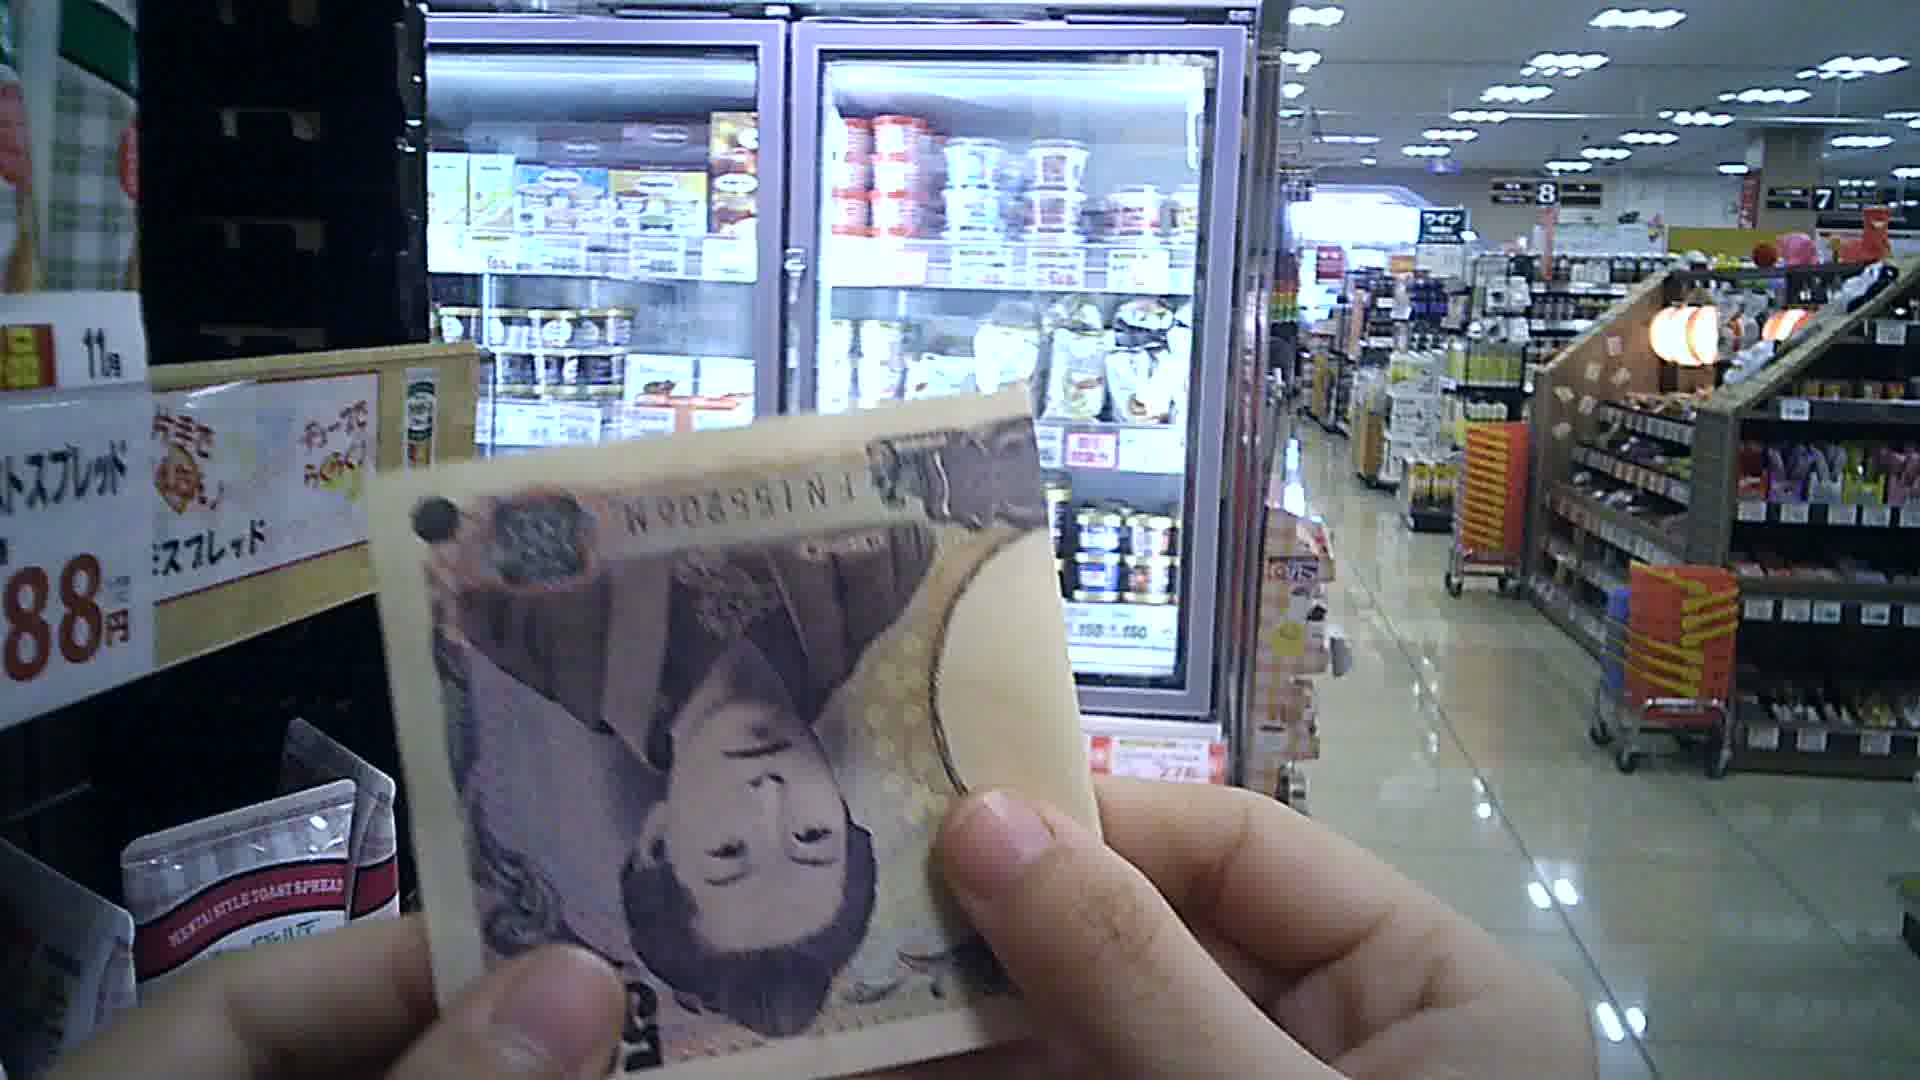5,000 Yen: (355, 378, 1124, 1065)
